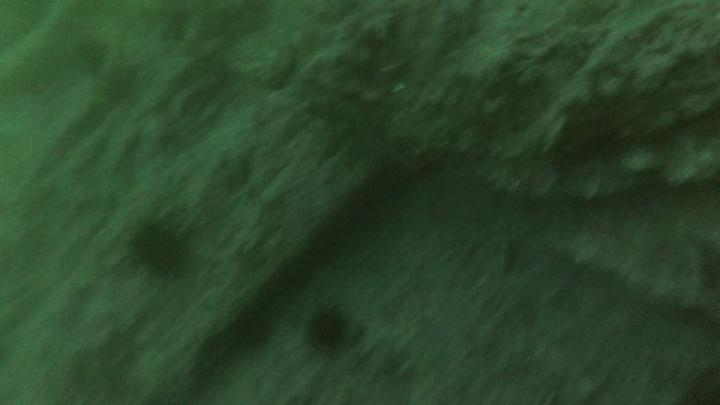echinus: (123, 213, 205, 286), (301, 300, 357, 362)
